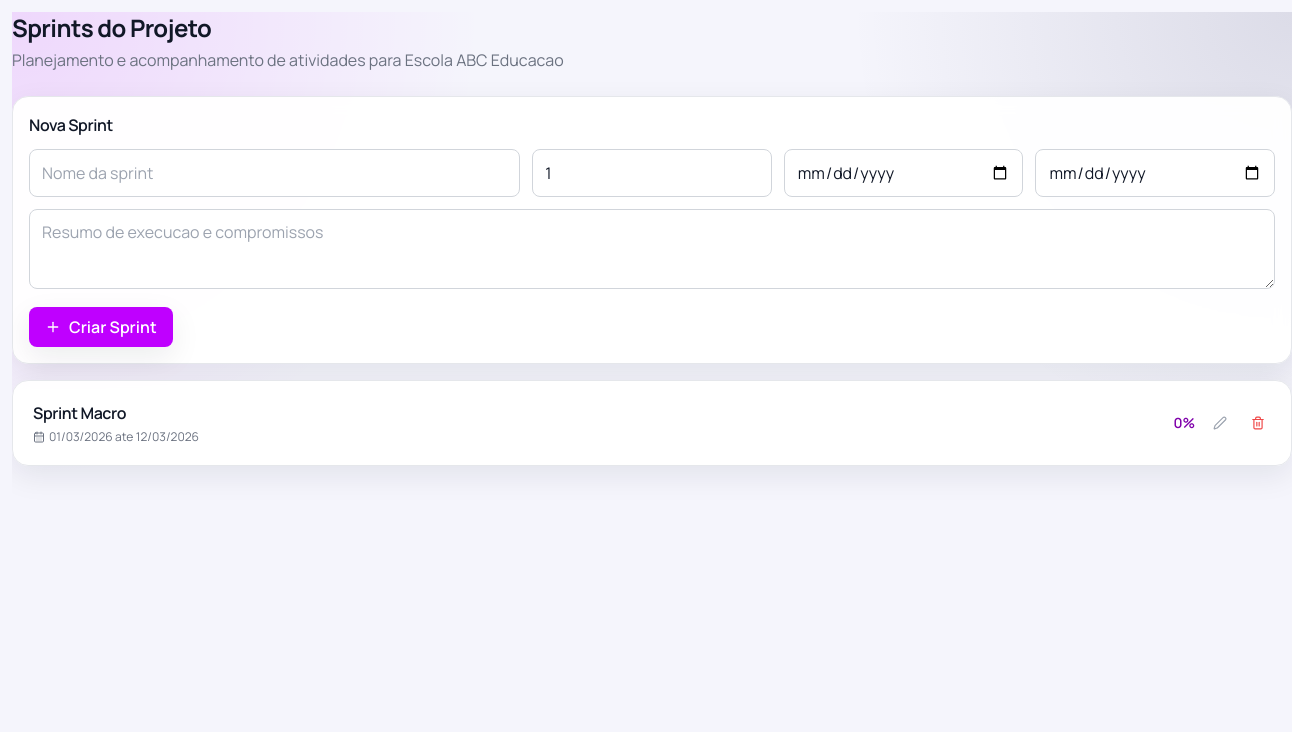
Test case: Sprints — visao macro › abre e cancela edicao de sprint sem salvar
Check: the heading "Sprint Macro" is shown, box [33, 402, 126, 424]
Click the button named "Editar sprint": [1220, 423] box [1207, 410, 1233, 436]
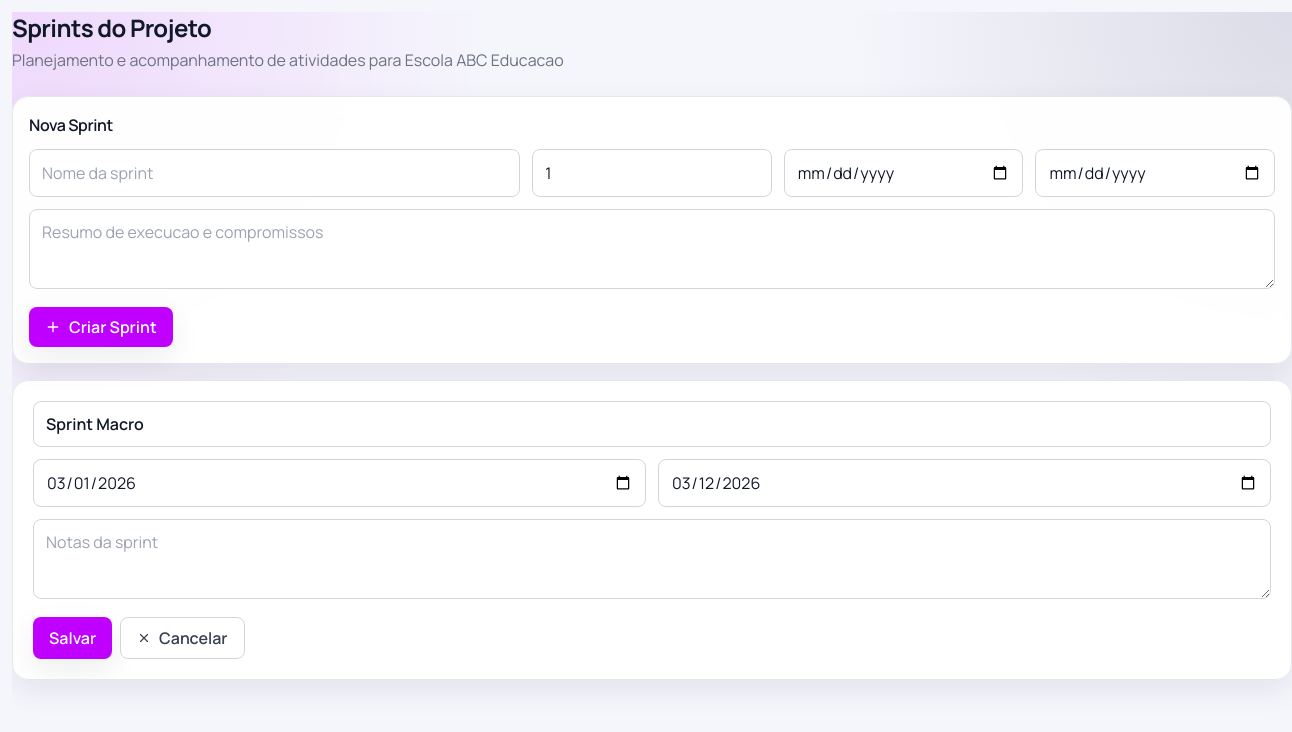
Check: the button "Cancelar" is shown
Click the button "Cancelar": [182, 638] box [120, 617, 245, 659]
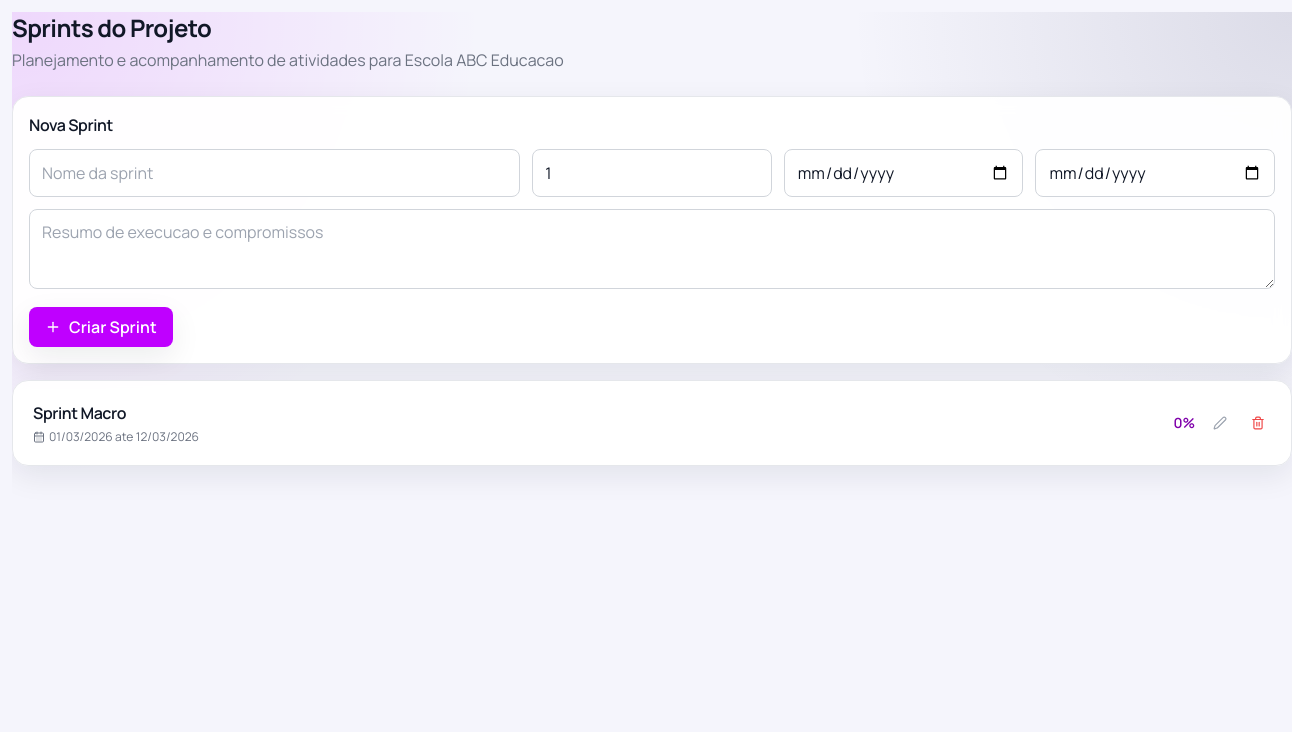
Check: the heading "Sprint Macro" is shown, box [33, 402, 126, 424]
